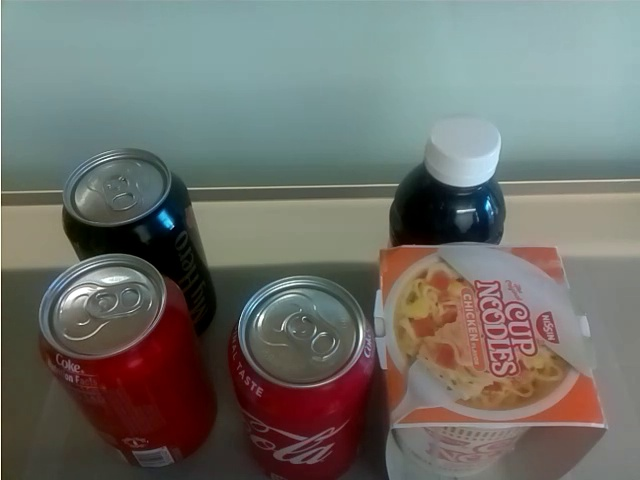cocacola: (28, 253, 218, 476), (227, 278, 373, 480)
cocacola-zero: (57, 147, 194, 251)
juice: (386, 113, 507, 243)
noodles: (381, 245, 609, 480)
